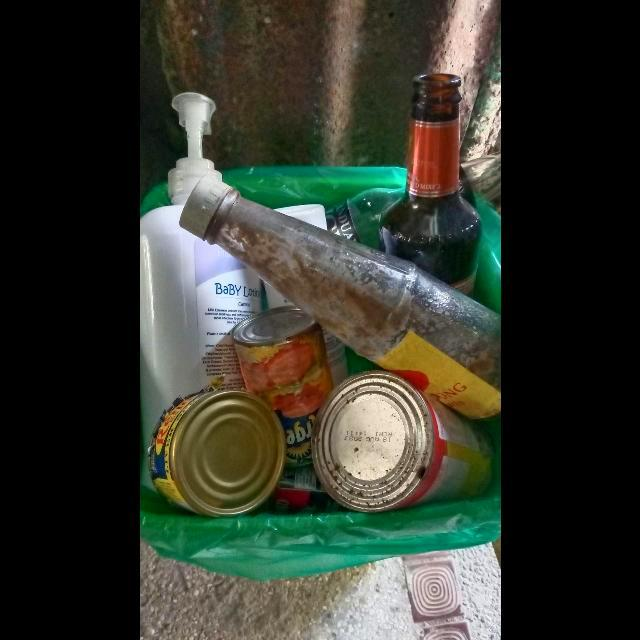aluminum: (310, 371, 494, 514), (147, 391, 286, 519), (231, 307, 333, 469)
glass_bottle: (378, 73, 482, 297), (325, 188, 406, 250), (460, 152, 501, 207)
plastic_container: (139, 92, 266, 493)
